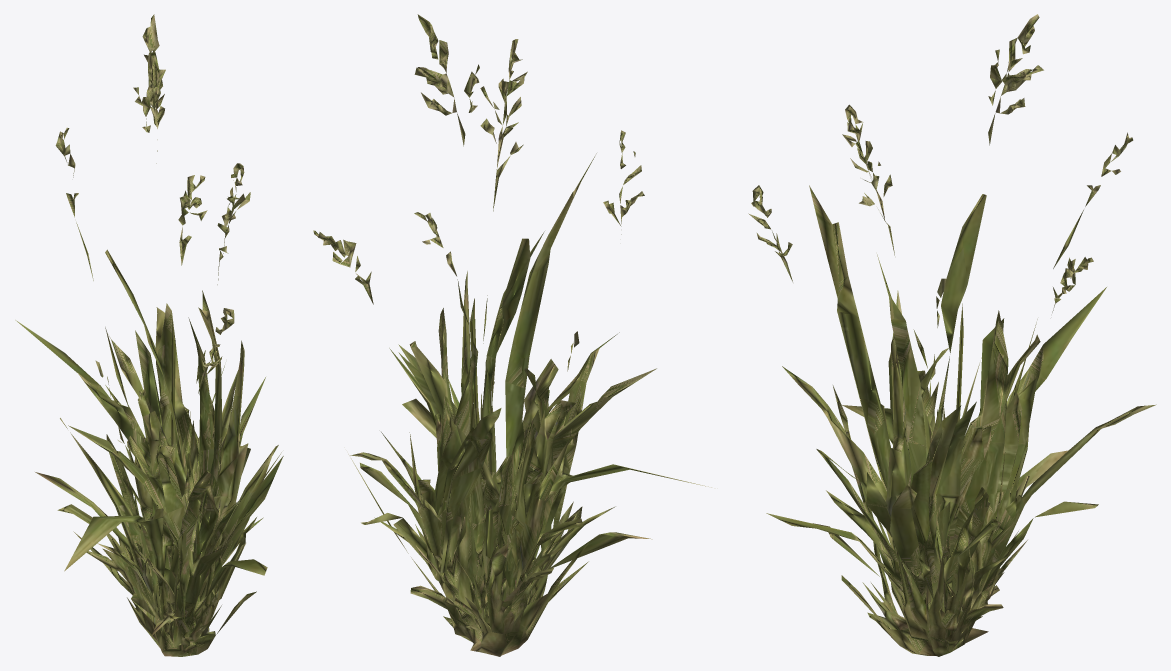
Rendered from hierba_larga_alto.glb.
The picture shows the model from 3 angles, left to right: view 1: azimuth 30°, elevation 25°; view 2: azimuth 150°, elevation 25°; view 3: azimuth 270°, elevation 25°; orthographic projection. The views are drawn at different scales.
Visible parts, largest first — view 1: alto; view 2: alto; view 3: alto.
Part boxes in pixels (bbox=[...]): alto: bbox=[15, 14, 283, 656]; alto: bbox=[313, 14, 711, 656]; alto: bbox=[748, 14, 1156, 656].
Bounding box in the file's own units: 0.4094 × 0.8433 × 0.4789.
Materials: 1 (1 with a texture image).
